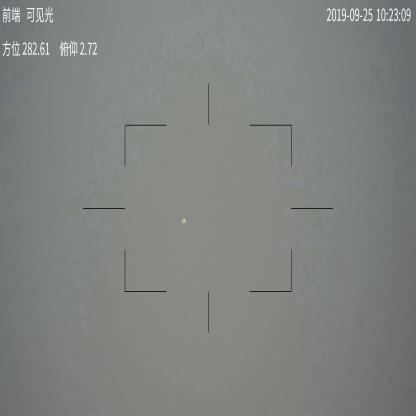uav: (181, 216, 187, 224)
